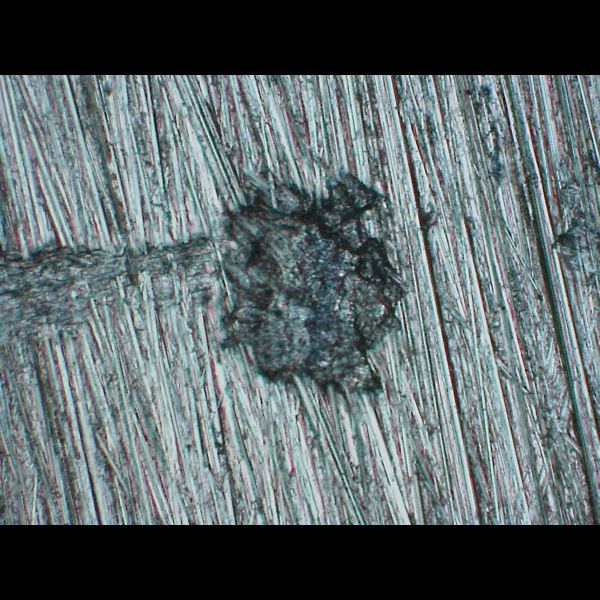d: (221, 159, 403, 402)
